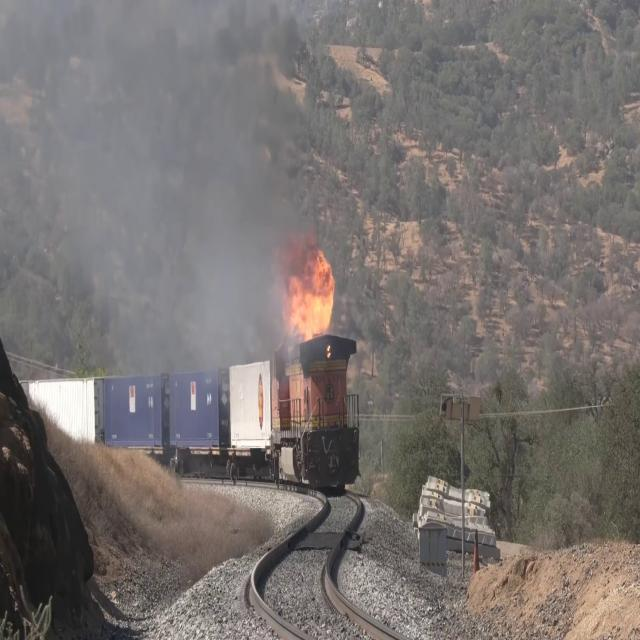Fire: (272, 233, 343, 343)
Smoke: (177, 86, 275, 326)
